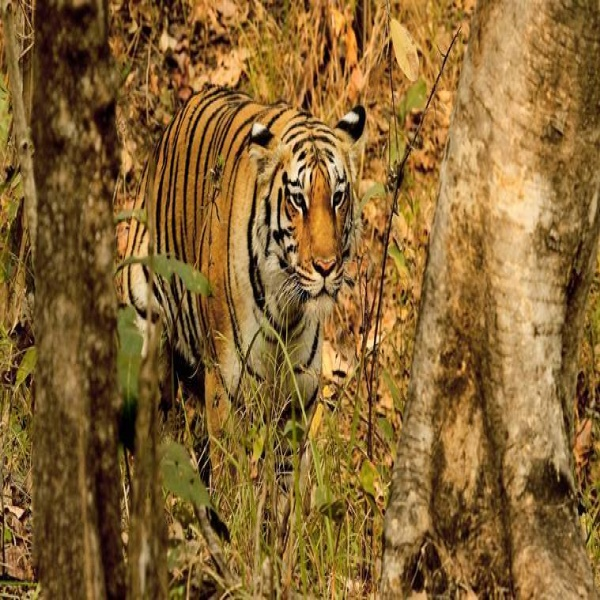Tiger: (126, 82, 372, 510)
